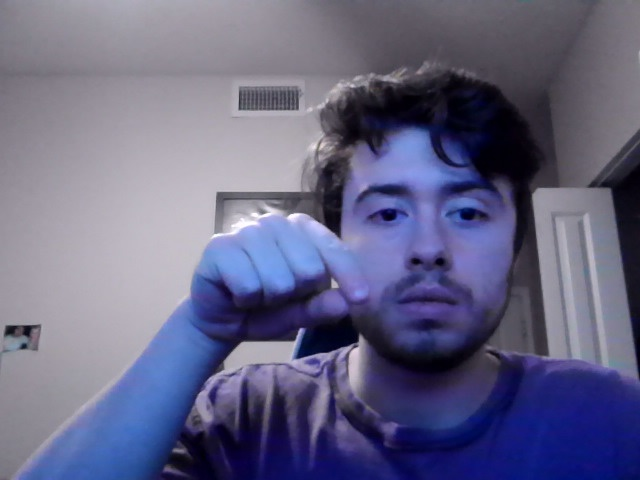q: (182, 212, 371, 364)
